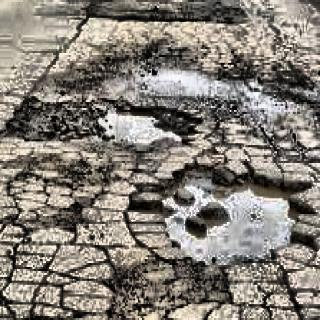alligator-crack: (0, 146, 320, 320)
pothole: (157, 162, 311, 262), (19, 98, 201, 148)
